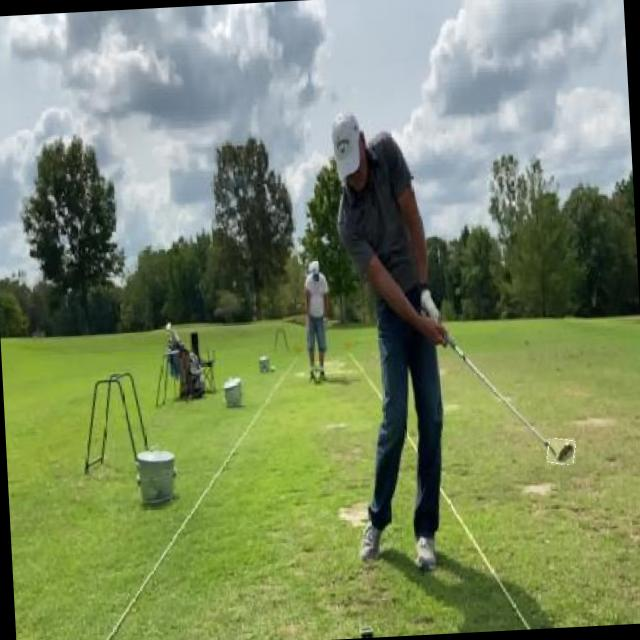club head: (547, 438, 576, 465)
